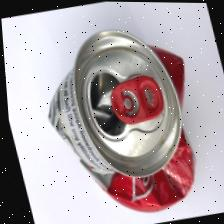metal: (21, 0, 224, 224)
